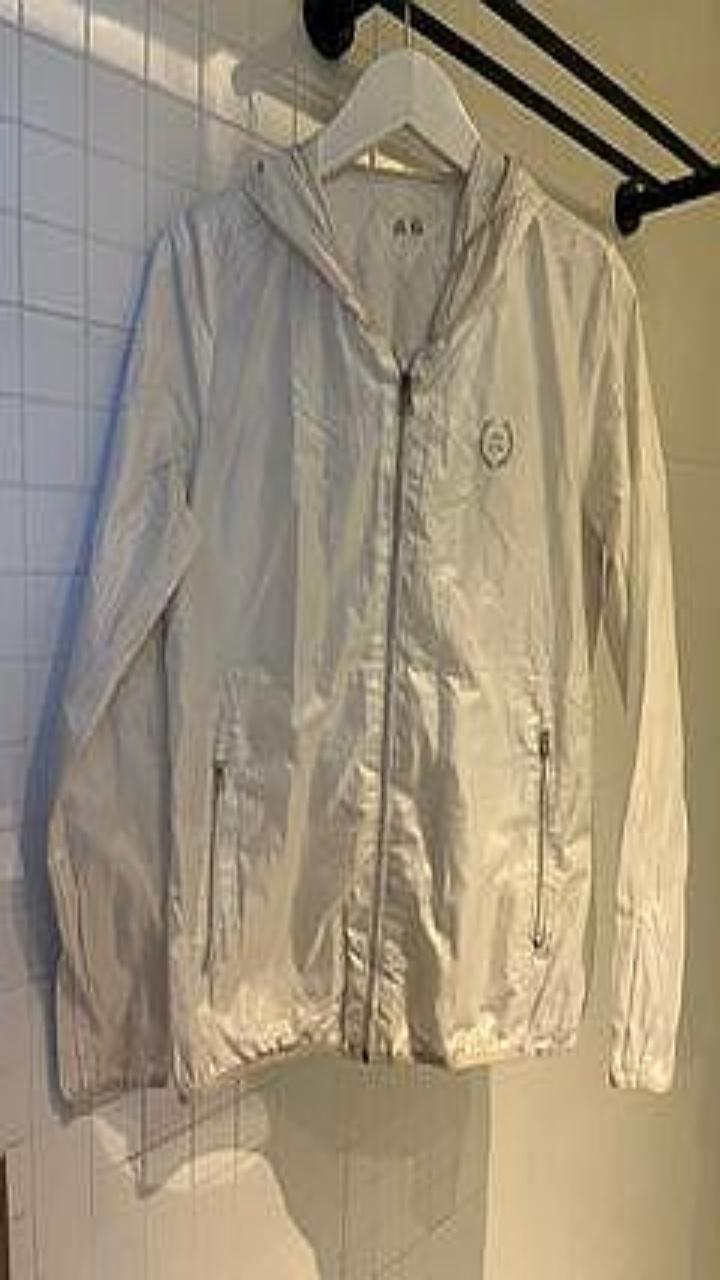Sports_Jacket: (47, 134, 686, 1100)
